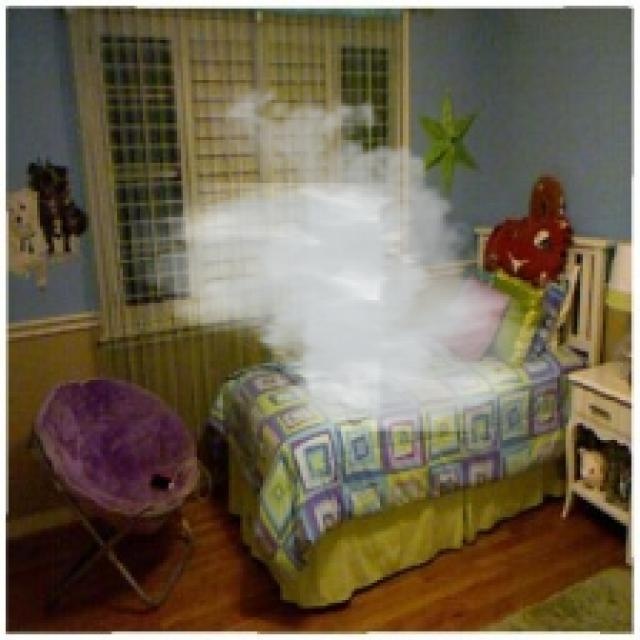smoke: (132, 77, 557, 432)
